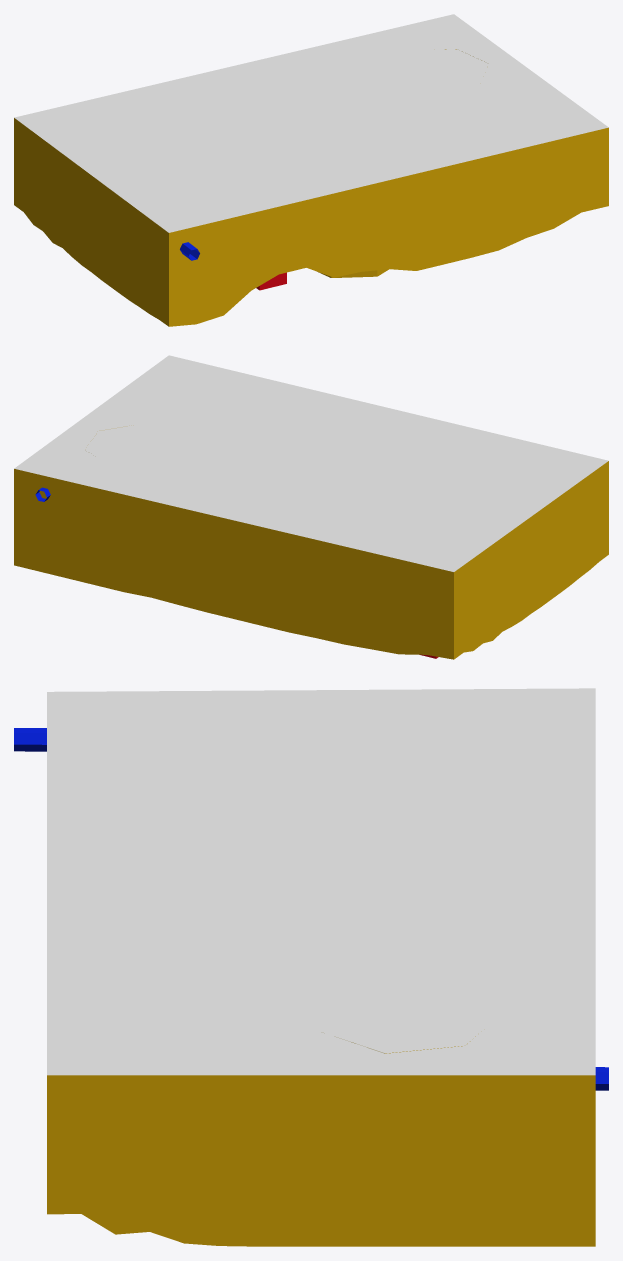
Rendered from Floor 13.fbx.
3 views of the same model, one above another, from view 1: azimuth 30°, elevation 25°; view 2: azimuth 150°, elevation 25°; view 3: azimuth 270°, elevation 25° (orthographic). The views are drawn at different scales.
Visible parts, largest first — view 1: Floor13Mesh; view 2: Floor13Mesh; view 3: Floor13Mesh.
Boxes of the visible parts, <box> form: Floor13Mesh: <box>14,14,608,326</box>; Floor13Mesh: <box>14,355,608,659</box>; Floor13Mesh: <box>14,688,608,1246</box>.
Bounding box in the file's own units: 7602 × 1695 × 5028.
